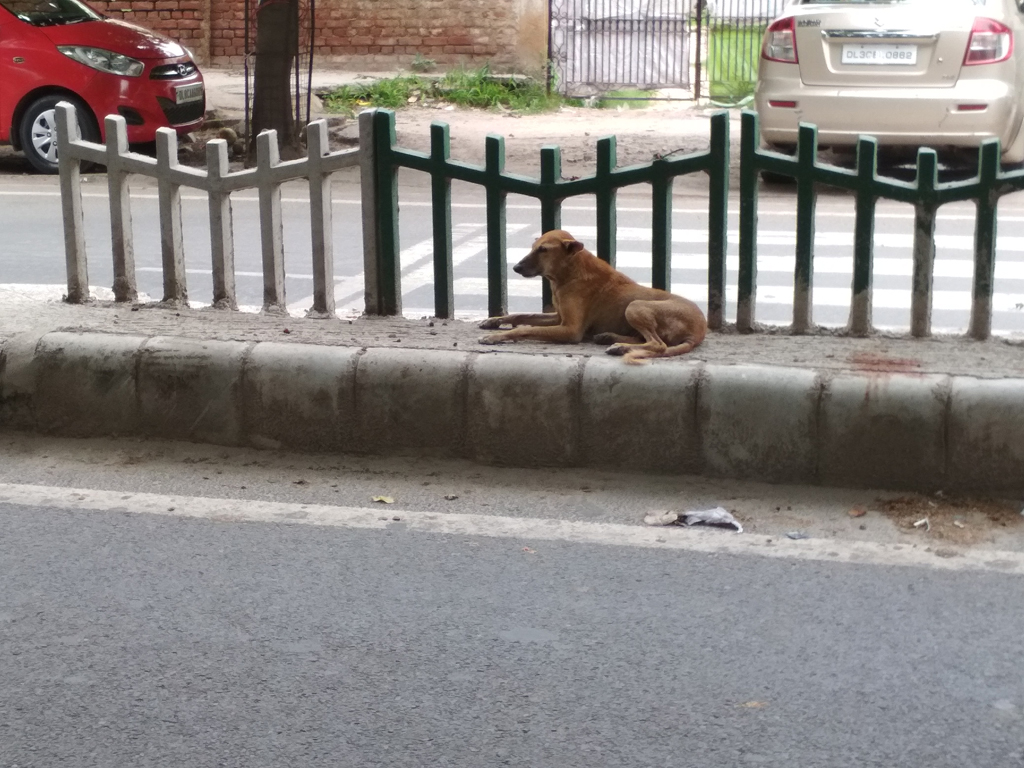dog: (479, 229, 711, 367)
